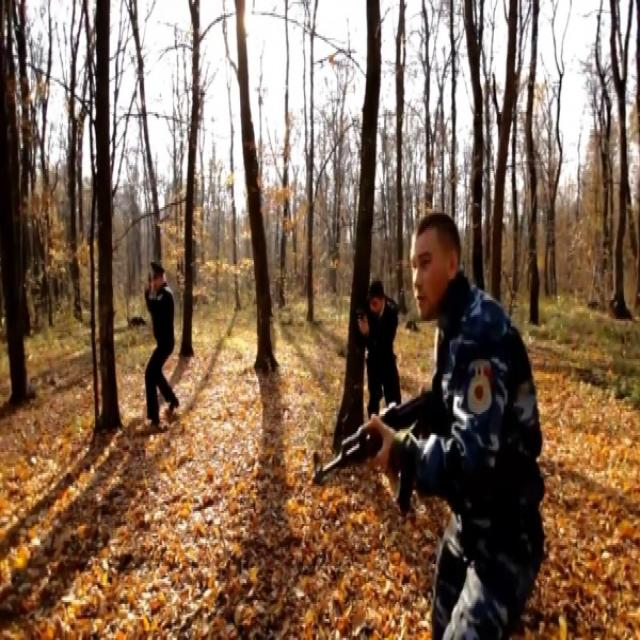rifle: (312, 377, 450, 497)
